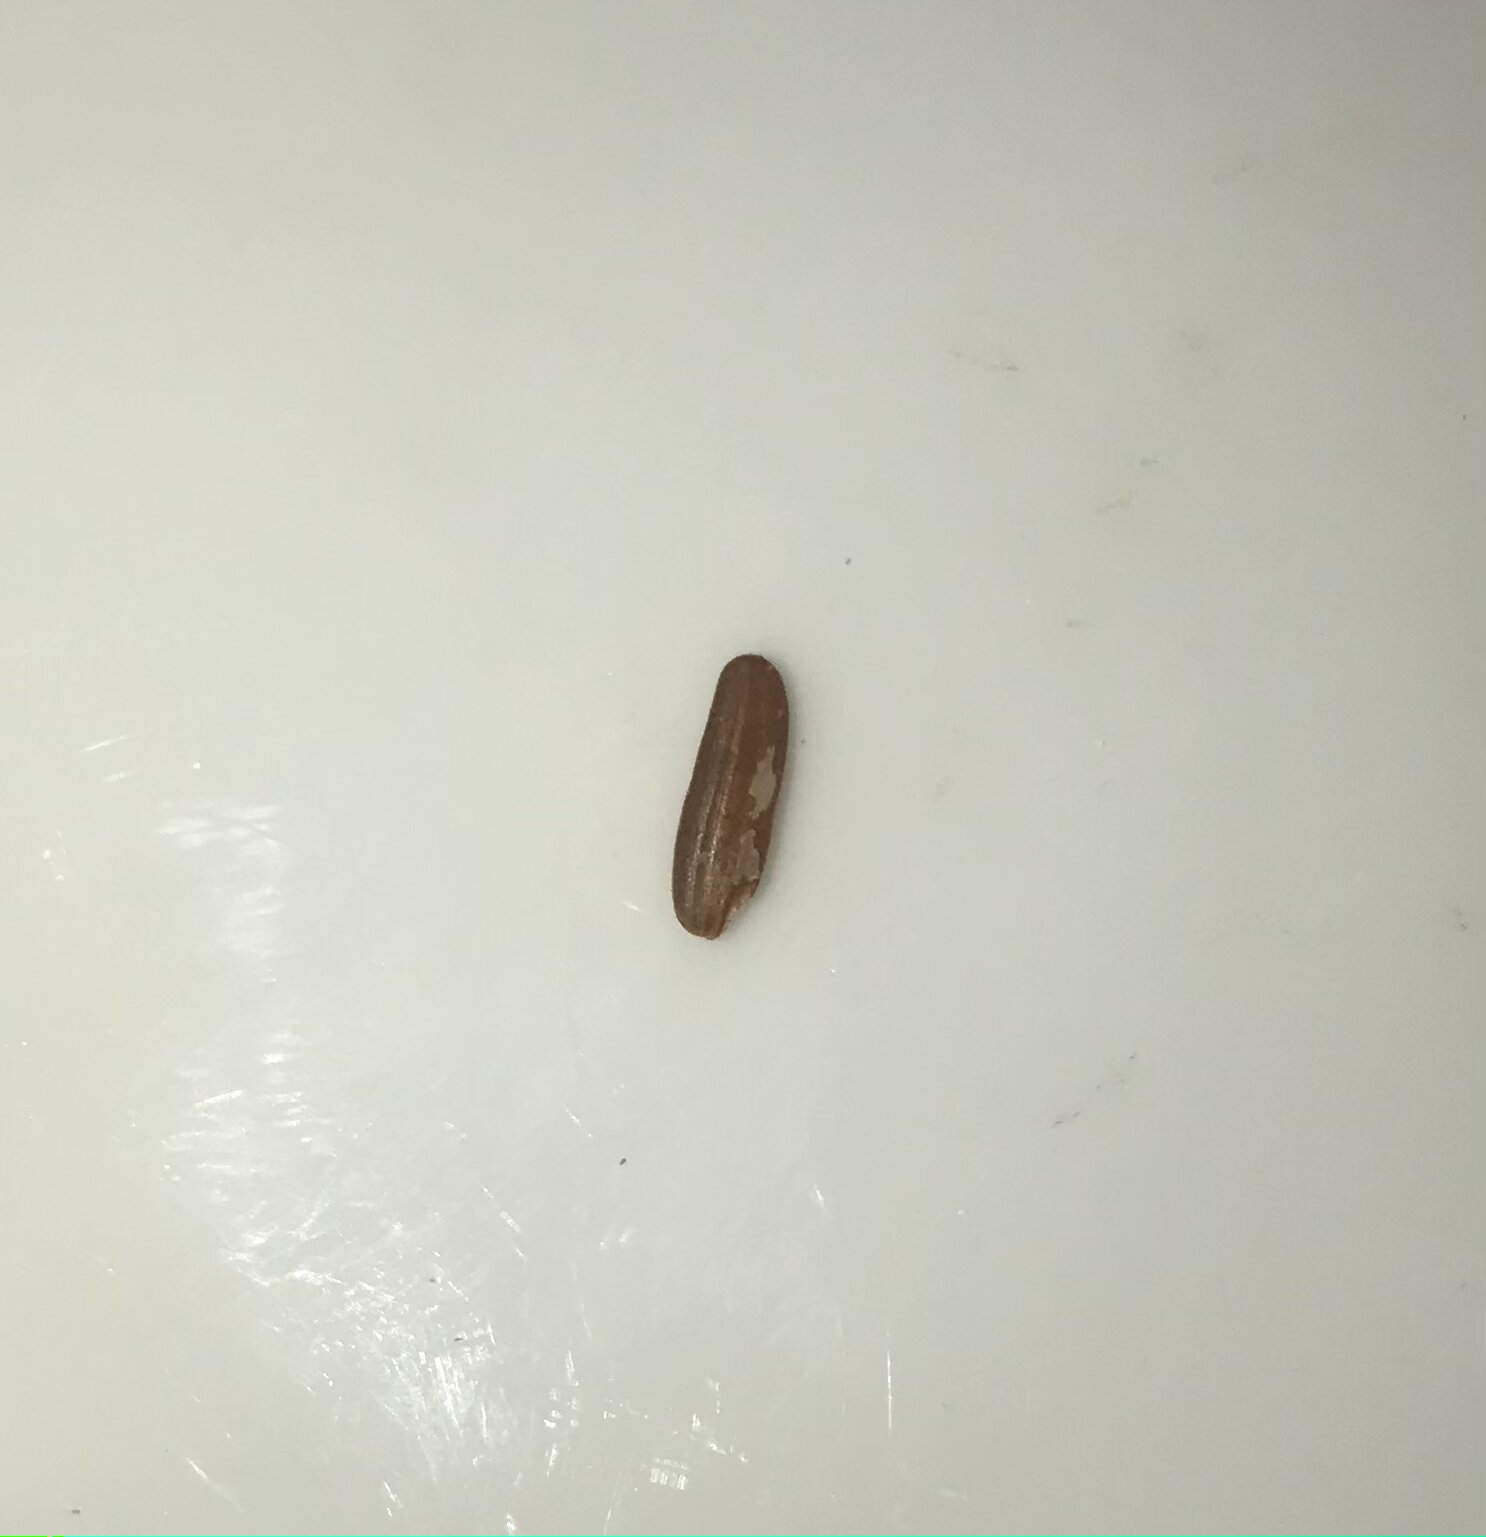Gao Huyet Rong: (660, 644, 810, 940)
